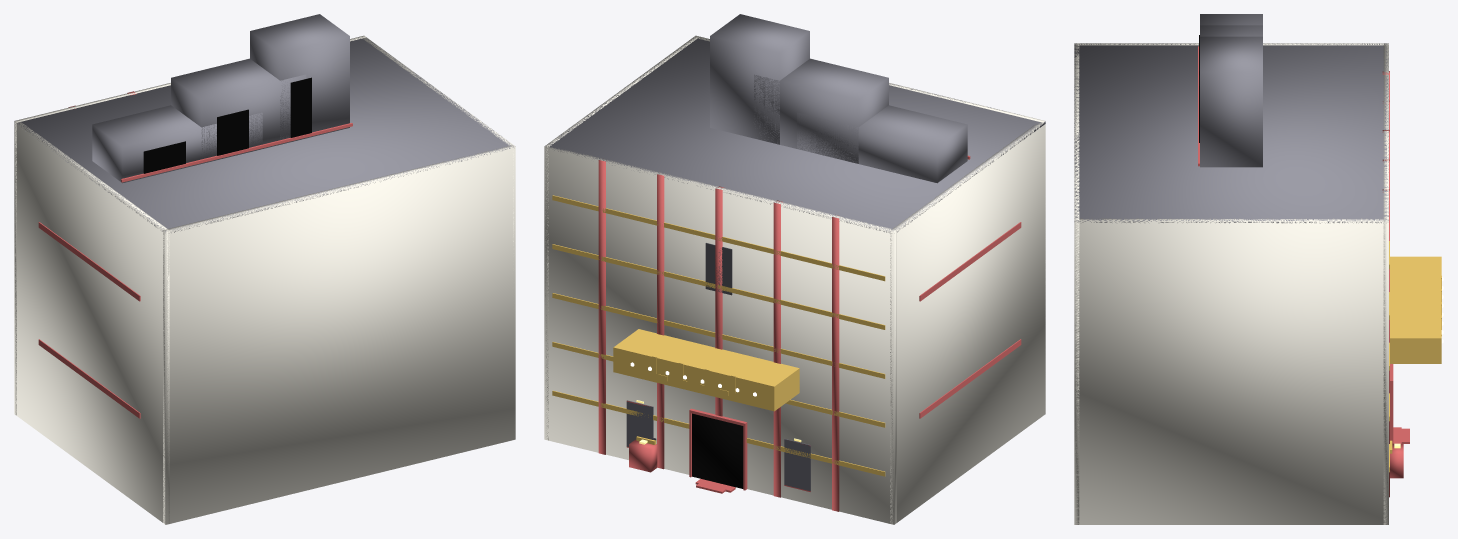
File: Building_3_5.glb
3 views of the same model, side by side, from view 1: azimuth 30°, elevation 25°; view 2: azimuth 150°, elevation 25°; view 3: azimuth 270°, elevation 25° (orthographic). The views are drawn at different scales.
Parts seen in each view (by area): view 1: Back, Left, Roof, Aud_2, Aud_1, Aud_0, Front, Scr_1, Scr_2, Scr_0, Right, SideDeco_L (+2 smaller); view 2: Front, Left, Roof, Aud_2, Aud_1, Aud_0, MarqueeTrimT, MarqueeTrimF, EntRec, Pil_0, Pil_4, Pil_1 (+16 smaller); view 3: Right, Roof, Aud_2, MarqueeTrimT, Front, Back, MarqueeTrimR, Aud_0, Aud_1, Left, TBooth.
Part boxes in pixels (x1,y1,x2,y2): Back: (163, 145, 515, 524); Left: (14, 122, 169, 524); Roof: (17, 37, 515, 232); Aud_2: (250, 14, 349, 144); Aud_1: (171, 58, 306, 161); Aud_0: (92, 105, 262, 183); Front: (14, 35, 365, 415); Scr_1: (217, 109, 248, 155); Scr_2: (290, 77, 311, 137); Scr_0: (143, 141, 185, 173); Right: (361, 36, 515, 430); SideDeco_L: (38, 222, 140, 301); Front: (544, 146, 896, 524); Left: (890, 122, 1045, 524); Roof: (545, 37, 1045, 232); Aud_2: (710, 14, 809, 144); Aud_1: (754, 58, 888, 163); Aud_0: (797, 105, 967, 183); MarqueeTrimT: (614, 329, 798, 388); MarqueeTrimF: (613, 347, 775, 410); EntRec: (692, 413, 743, 488); Pil_0: (832, 215, 839, 511); Pil_4: (598, 160, 605, 454); Pil_1: (773, 200, 782, 497); Right: (1074, 218, 1388, 524); Roof: (1074, 43, 1388, 223); Aud_2: (1200, 36, 1262, 167); MarqueeTrimT: (1390, 257, 1441, 339); Front: (1383, 43, 1388, 524); Back: (1074, 43, 1079, 524); MarqueeTrimR: (1390, 337, 1441, 363); Aud_0: (1200, 14, 1262, 25); Aud_1: (1200, 25, 1262, 36); Left: (1074, 43, 1388, 45); TBooth: (1390, 443, 1403, 478).
Size of the model in its own units: 4.01 by 4.22 by 3.52.
